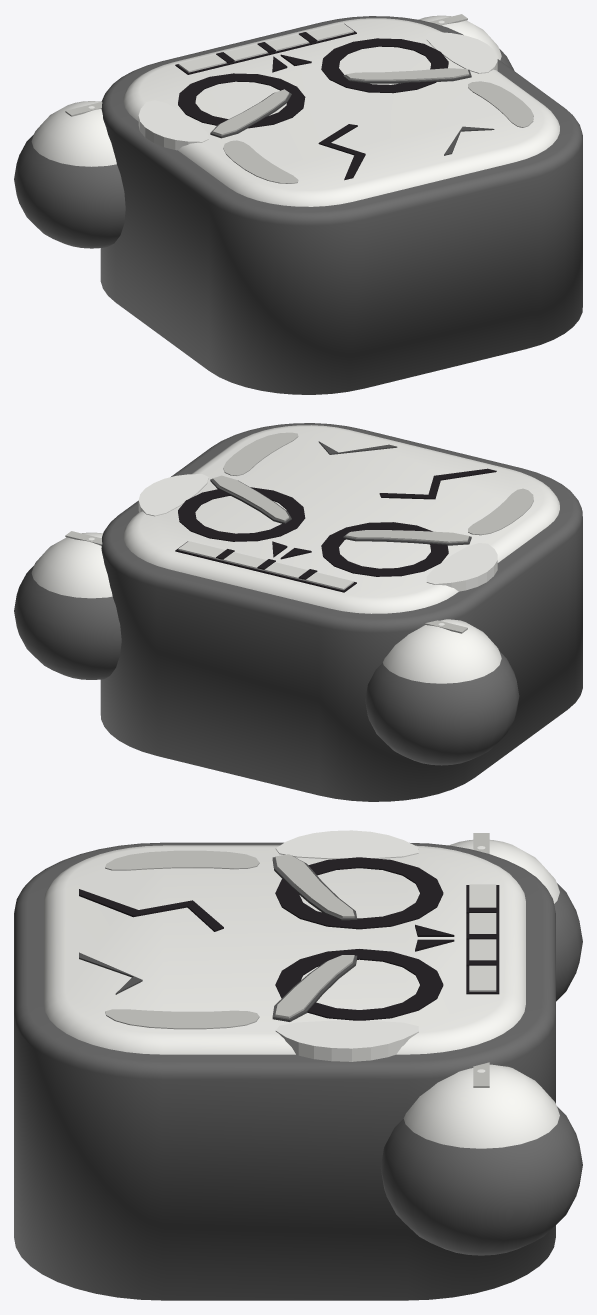
The model's file is body_caveira_branca.fbx.
3 renders of one model, top to bottom at view 1: azimuth 30°, elevation 25°; view 2: azimuth 150°, elevation 25°; view 3: azimuth 270°, elevation 25°, orthographic. The views are drawn at different scales.
Parts seen in each view (by area): view 1: body_caveira_branca_corpo, body_caveira_branca_mao_esq, body_caveira_branca_mao; view 2: body_caveira_branca_corpo, body_caveira_branca_mao_esq, body_caveira_branca_mao; view 3: body_caveira_branca_corpo, body_caveira_branca_mao, body_caveira_branca_mao_esq.
Boxes of the visible parts, x1,y1,x2,y2 form: body_caveira_branca_corpo: [100, 16, 582, 394]; body_caveira_branca_mao_esq: [14, 101, 125, 248]; body_caveira_branca_mao: [418, 14, 514, 70]; body_caveira_branca_corpo: [100, 423, 582, 801]; body_caveira_branca_mao_esq: [365, 619, 519, 765]; body_caveira_branca_mao: [14, 531, 121, 679]; body_caveira_branca_corpo: [14, 830, 555, 1300]; body_caveira_branca_mao: [380, 1062, 582, 1255]; body_caveira_branca_mao_esq: [449, 833, 582, 1001].
Bounding box in the file's own units: 5.4 × 2.04 × 4.2.
Materials: 1 (1 with a texture image).
